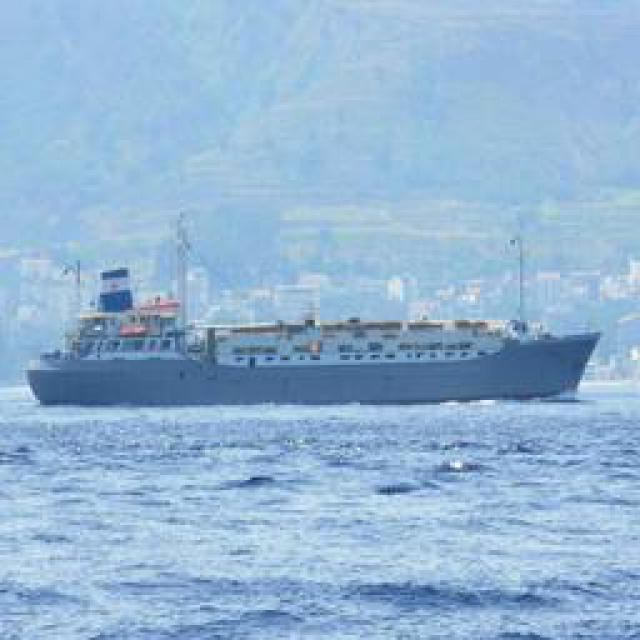Ship: (35, 291, 588, 411)
